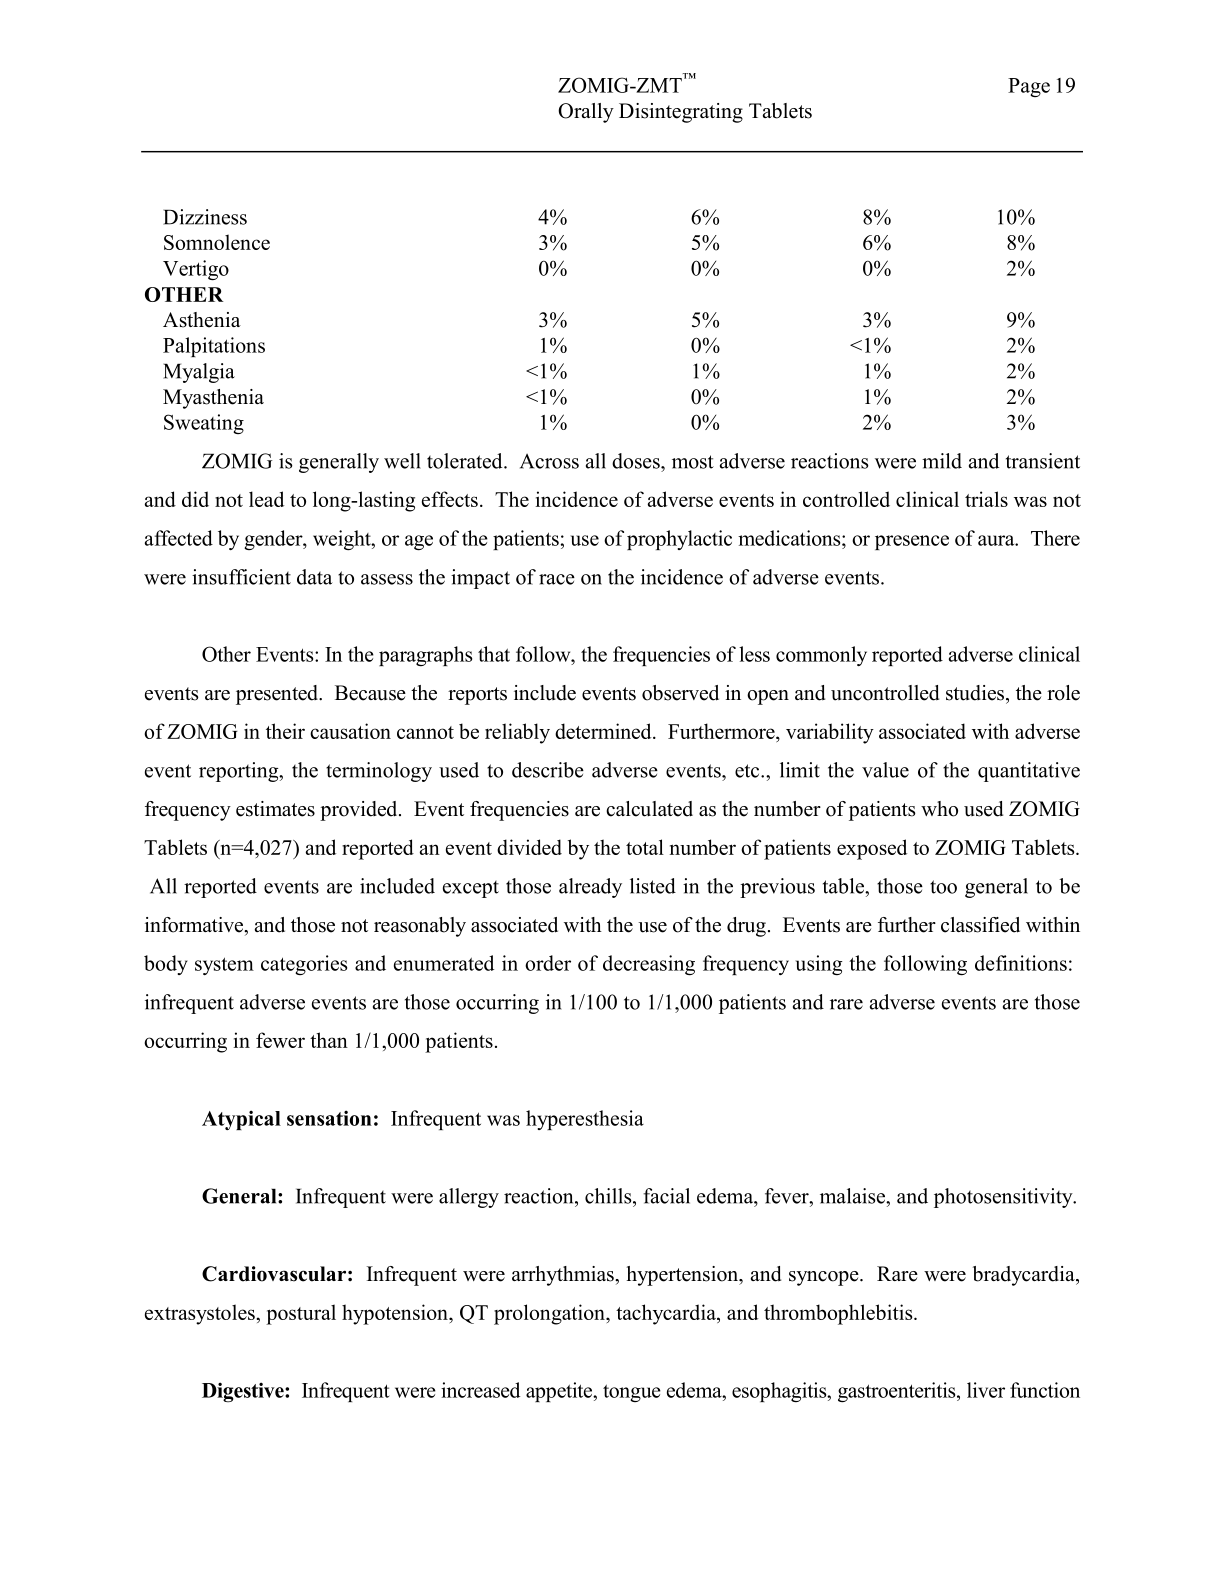nolines: (141, 204, 1041, 436)
